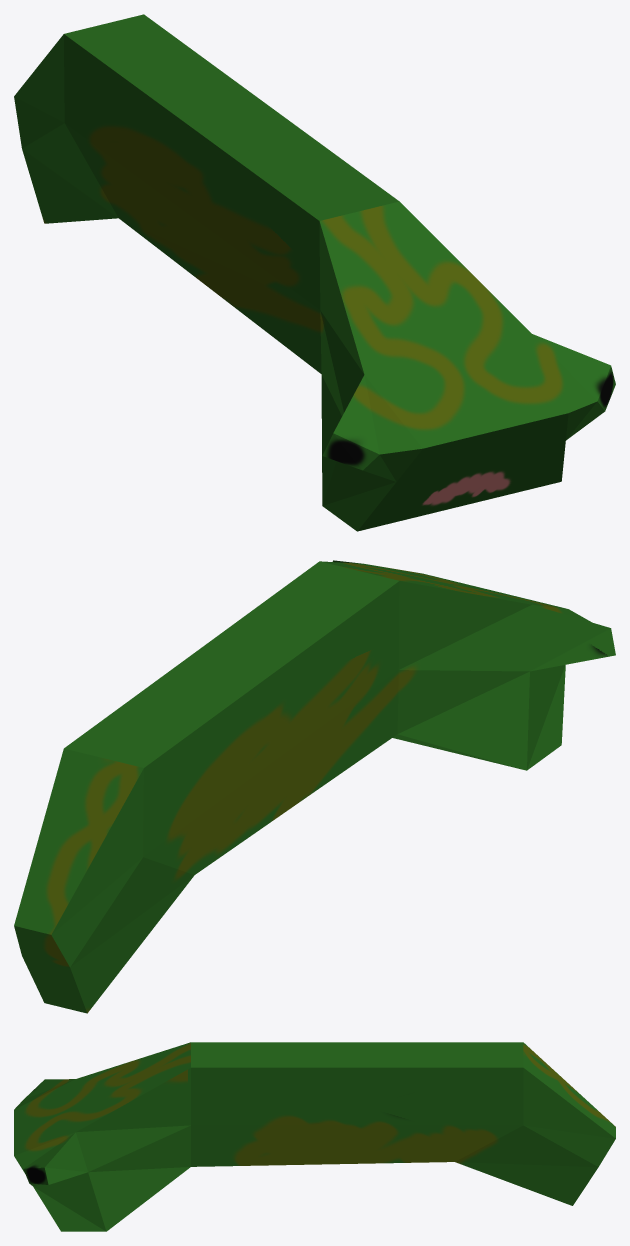
Rendered from bug.obj.
The picture shows the model from 3 angles, top to bottom: view 1: azimuth 30°, elevation 25°; view 2: azimuth 150°, elevation 25°; view 3: azimuth 270°, elevation 25°; orthographic projection. The views are drawn at different scales.
Visible parts, largest first — view 1: Cube; view 2: Cube; view 3: Cube.
Part boxes in pixels (bbox=[...]): Cube: bbox=[14, 14, 615, 531]; Cube: bbox=[14, 560, 615, 1013]; Cube: bbox=[14, 1042, 615, 1231].
Size of the model in its own units: 10.56 by 7.64 by 28.85.
Materials: 1 (1 with a texture image).
